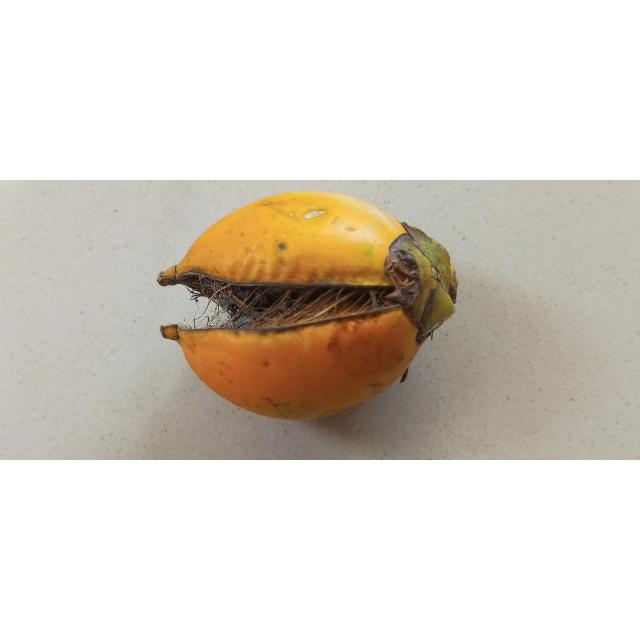damaged: (157, 191, 457, 420)
